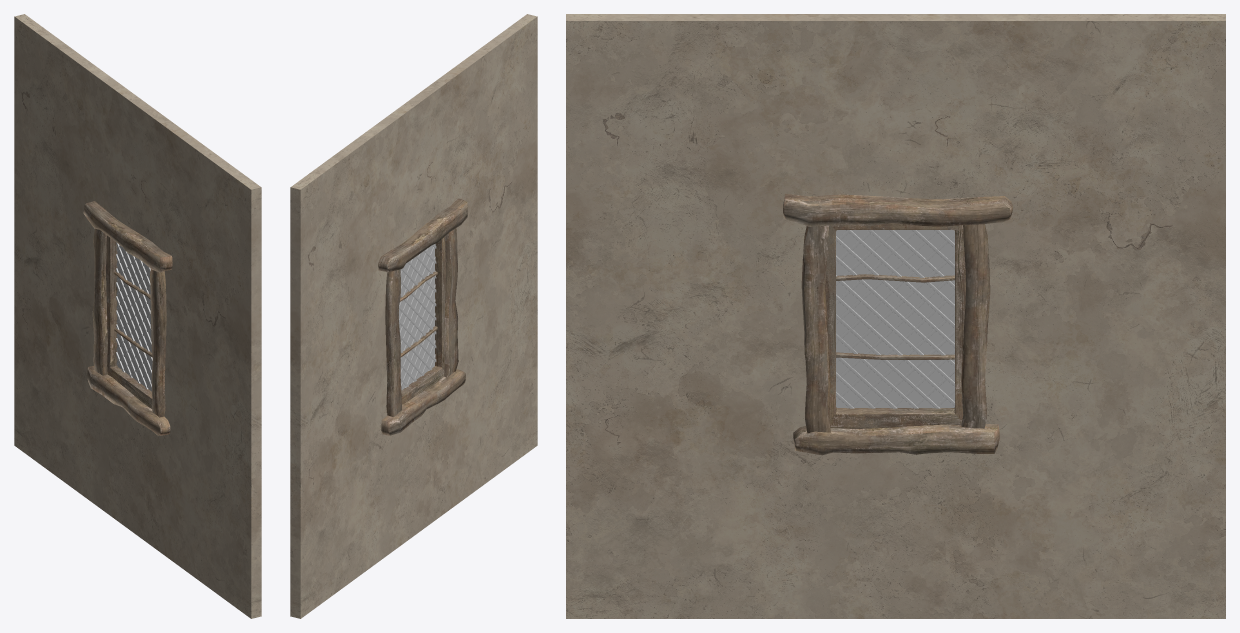
The model's file is SM_Wall_Window_01.fbx.
3 renders of one model, left to right at view 1: azimuth 30°, elevation 25°; view 2: azimuth 150°, elevation 25°; view 3: azimuth 270°, elevation 25°, orthographic. The views are drawn at different scales.
Parts seen in each view (by area): view 1: SM_Wall_Window_01_LOD0; view 2: SM_Wall_Window_01_LOD0; view 3: SM_Wall_Window_01_LOD0.
Boxes of the visible parts, bbox=[...] form: SM_Wall_Window_01_LOD0: bbox=[14, 14, 261, 618]; SM_Wall_Window_01_LOD0: bbox=[290, 14, 537, 618]; SM_Wall_Window_01_LOD0: bbox=[566, 14, 1225, 618].
Bounding box in the file's own units: 36.51 × 400 × 400.
